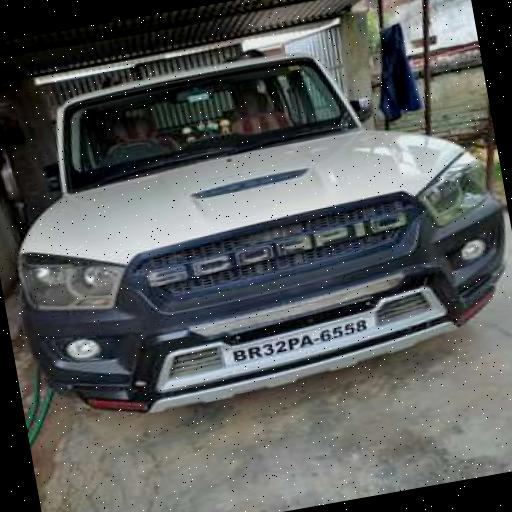license_plate`: (222, 311, 376, 365)
